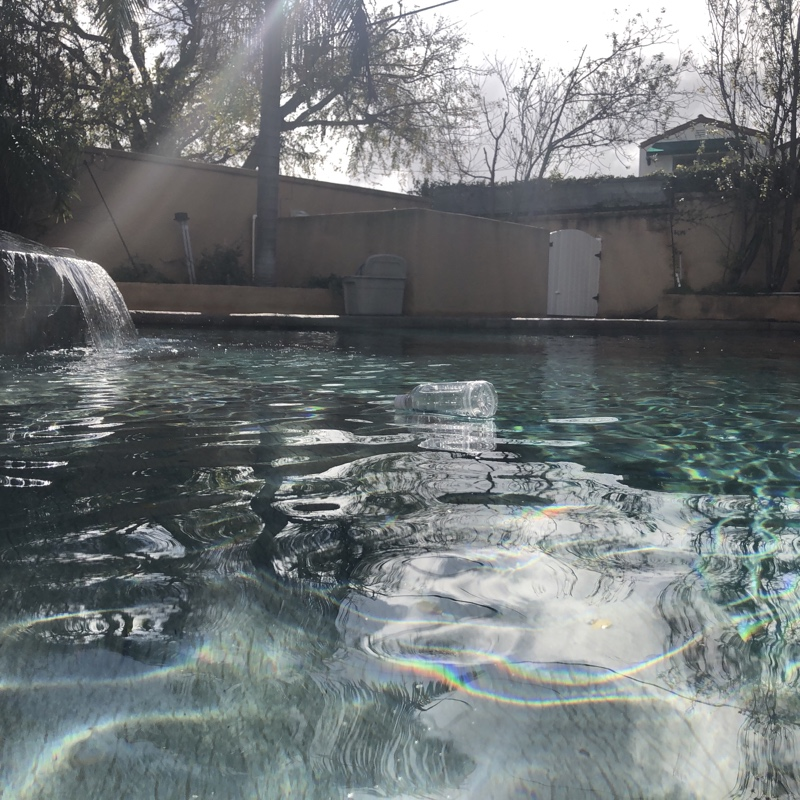Plastic Bottle: (390, 372, 504, 420)
